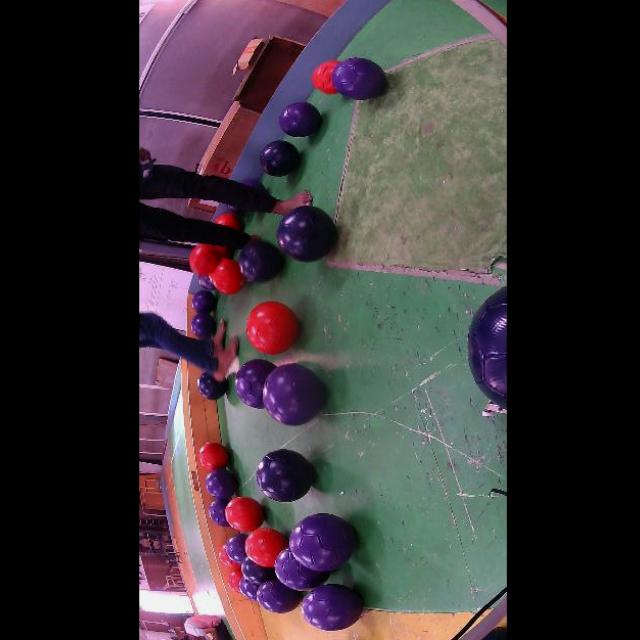B: (467, 286, 506, 408), (276, 206, 335, 262), (256, 450, 313, 502), (238, 242, 281, 282), (258, 141, 299, 176), (241, 557, 276, 584), (196, 372, 228, 400)
P: (288, 514, 356, 571), (262, 364, 324, 426), (301, 584, 362, 630), (274, 547, 329, 590), (330, 58, 385, 100), (234, 359, 275, 409), (256, 580, 301, 613), (278, 102, 320, 137), (205, 469, 237, 500), (189, 313, 215, 339), (225, 534, 246, 565), (207, 498, 229, 527), (191, 290, 216, 313), (238, 578, 258, 601), (241, 179, 266, 193), (197, 275, 215, 291)
R: (246, 302, 298, 354), (244, 528, 288, 567), (224, 497, 264, 532), (210, 258, 243, 295), (188, 244, 220, 275), (311, 60, 339, 95), (198, 442, 228, 472), (218, 544, 241, 570), (214, 213, 241, 231), (226, 570, 242, 593), (215, 247, 232, 258)
